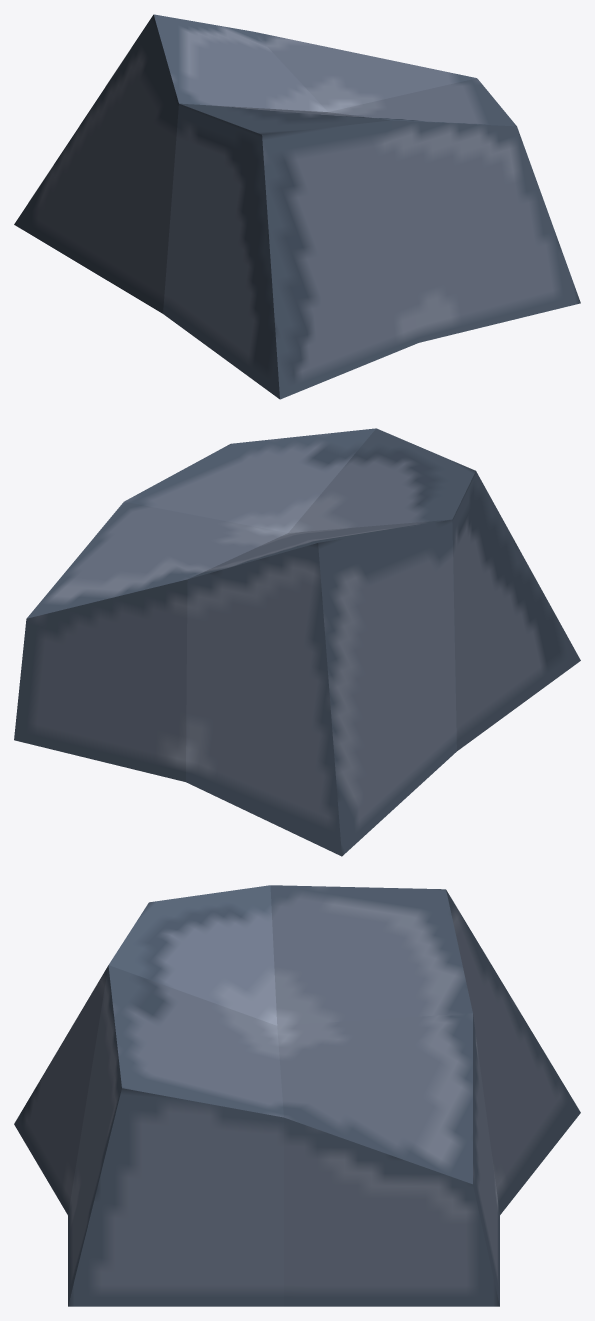
Rendered from RockTest.obj.
The picture shows the model from 3 angles, top to bottom: view 1: azimuth 30°, elevation 25°; view 2: azimuth 150°, elevation 25°; view 3: azimuth 270°, elevation 25°; orthographic projection. The views are drawn at different scales.
Parts seen in each view (by area): view 1: cuboid; view 2: cuboid; view 3: cuboid.
Part boxes in pixels (bbox=[...]): cuboid: bbox=[14, 14, 580, 399]; cuboid: bbox=[14, 428, 580, 856]; cuboid: bbox=[14, 885, 580, 1306].
Bounding box in the file's own units: 1.06 × 0.6875 × 1.31.
